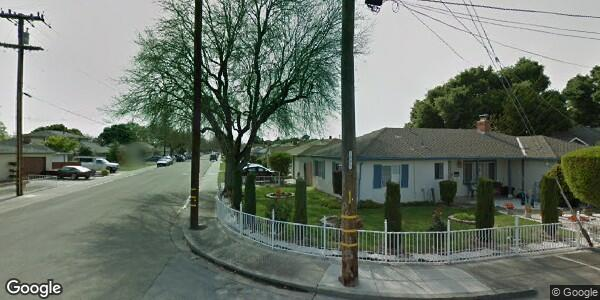Wood_Pole: (1, 6, 47, 198), (336, 1, 365, 291), (182, 1, 208, 233)
